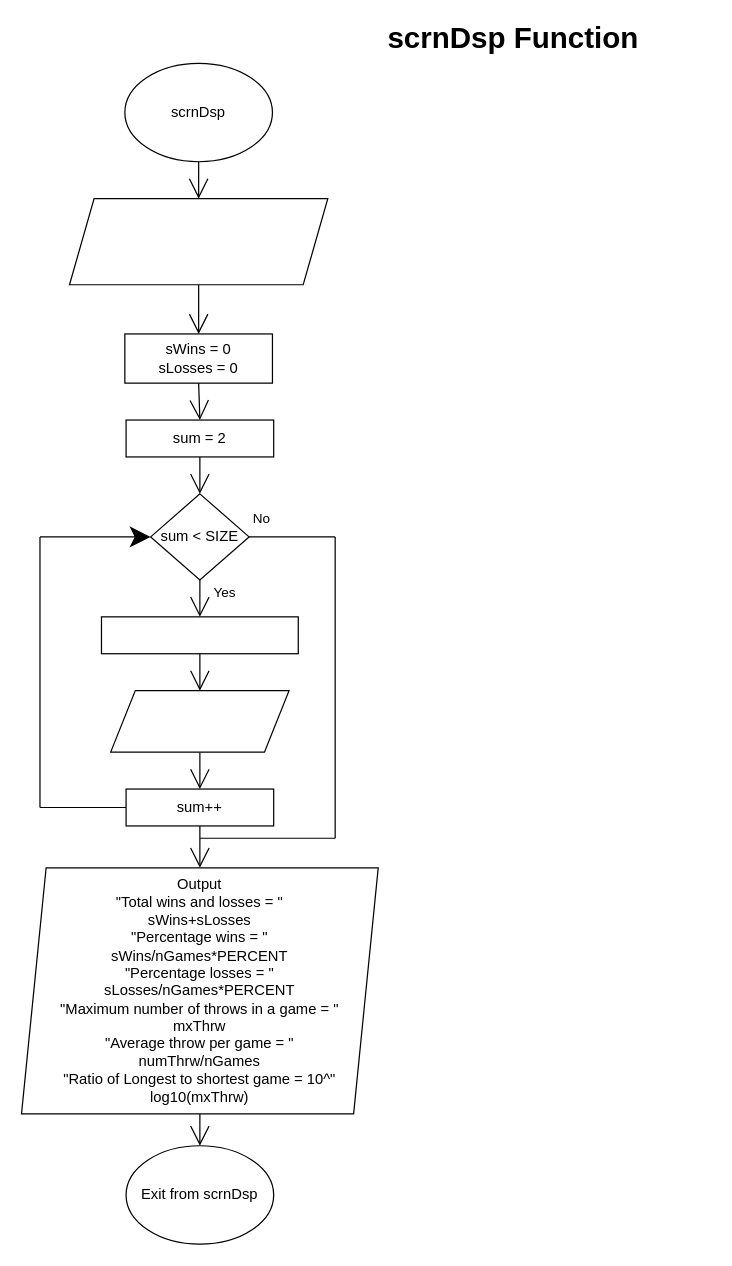
Image size: 732x1266. Some labels were removed from this diagram. The centre of each missing label's shape, as x and y in pixels:
Output "Total number of Games = " nGames "Roll Wins Losses": the point at 198,241
Output wins[sum] losses[sum]: the point at 199,720
sWins += wins[sum] sLosses += losses[sum]: the point at 199,635
